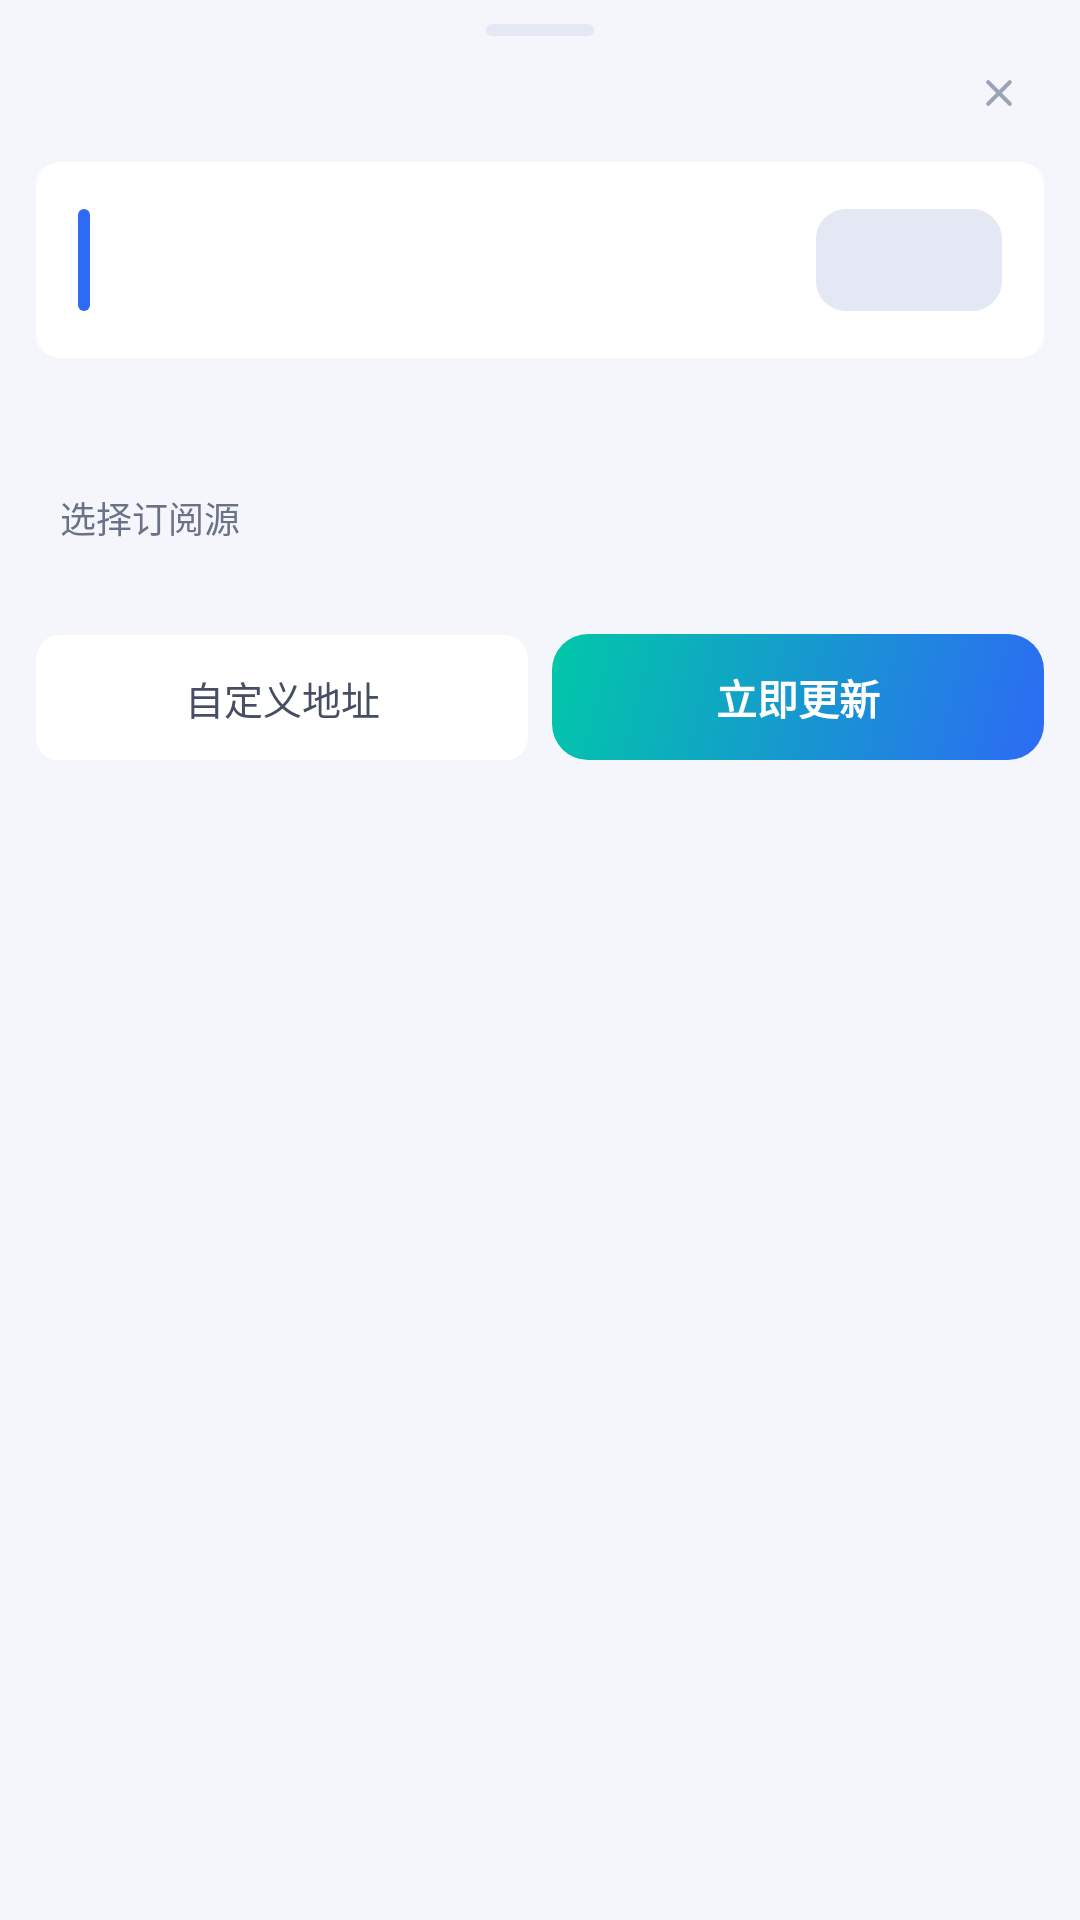

Icons on this 1080×1920 Android screen, each with its box as (x1, y1, x2, y2):
关闭: (986, 80, 1012, 106)
